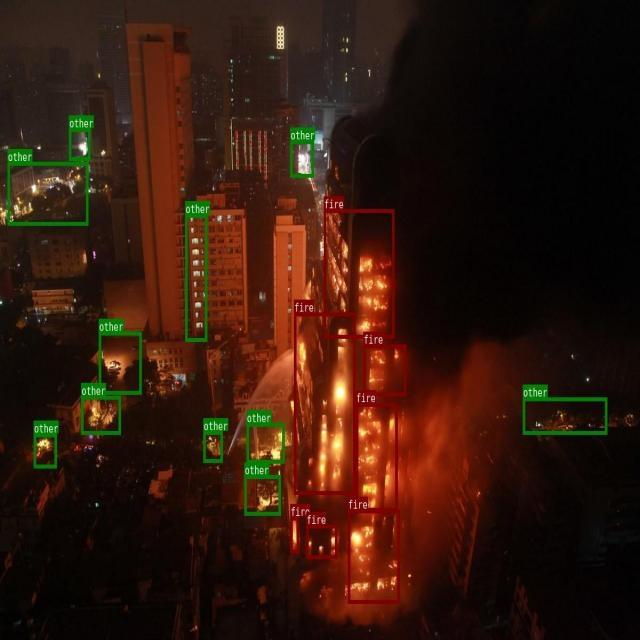fire: (294, 312, 355, 494), (323, 209, 394, 338), (348, 509, 399, 603), (356, 402, 397, 511), (363, 344, 405, 395), (306, 524, 337, 558), (290, 517, 299, 552)
